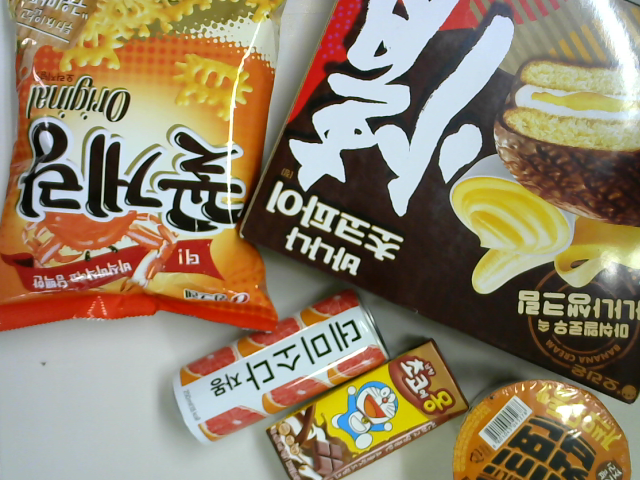Choco_E_Mong: (264, 340, 473, 480)
Choco_Pie_Banana: (238, 1, 640, 406)
Crabrang: (1, 1, 288, 334)
Demisoda_Grapefruit_Can_250ml: (171, 286, 387, 446)
Udongmini: (454, 379, 633, 480)
